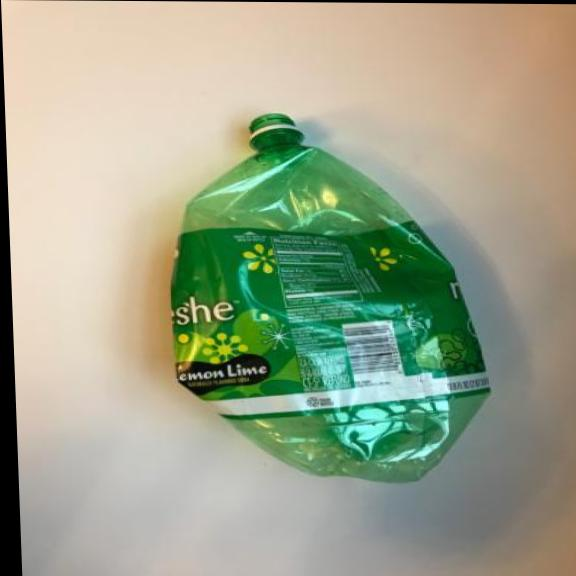Plastik: (156, 109, 502, 490)
